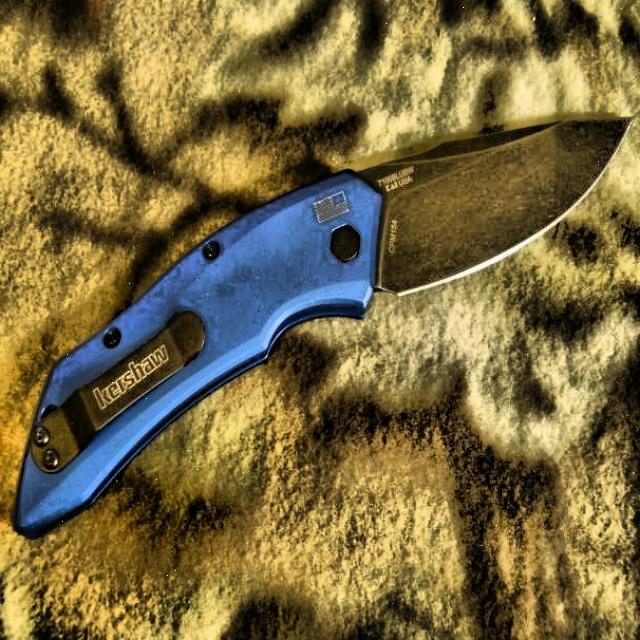knife: (15, 116, 631, 544)
